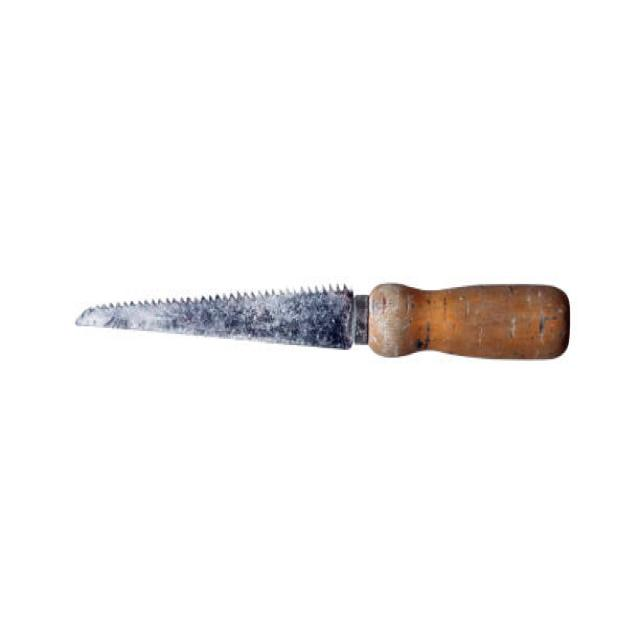knife: (75, 275, 590, 393)
